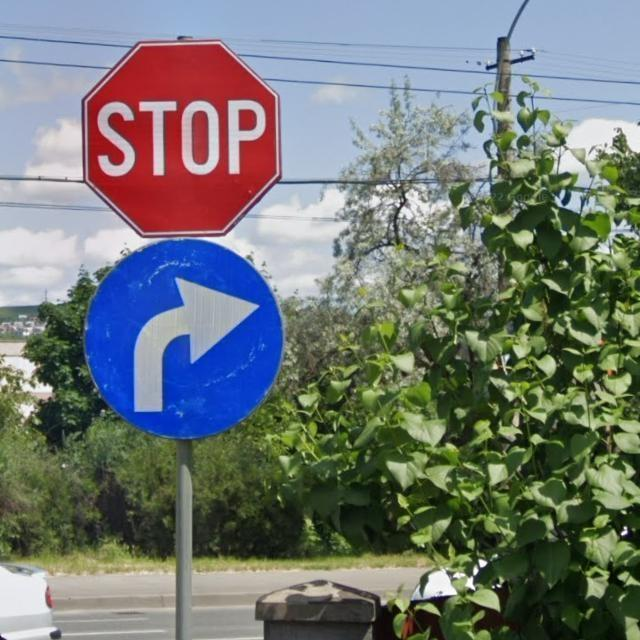prio_stop: (82, 36, 282, 235)
